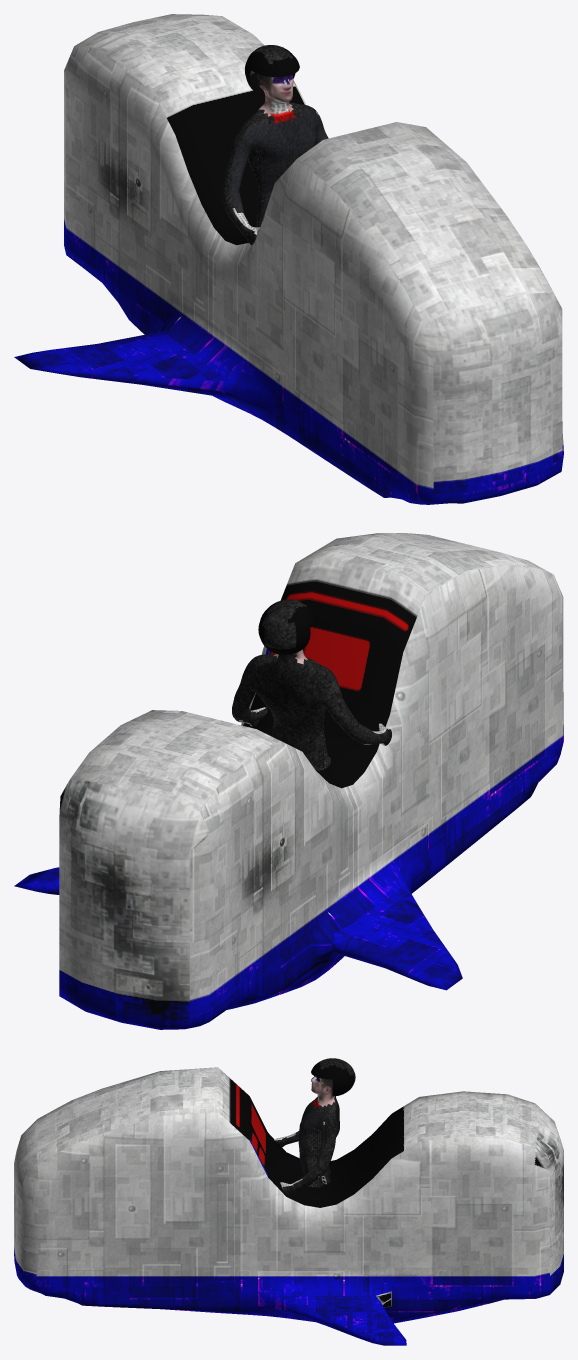
File: enemyShip01.fbx
3 views of the same model, one above another, from view 1: azimuth 30°, elevation 25°; view 2: azimuth 150°, elevation 25°; view 3: azimuth 270°, elevation 25° (orthographic). The views are drawn at different scales.
Visible parts, largest first — view 1: polySurface1; view 2: polySurface1; view 3: polySurface1.
Part boxes in pixels (bbox=[...]): polySurface1: bbox=[14, 14, 563, 504]; polySurface1: bbox=[14, 533, 563, 1029]; polySurface1: bbox=[14, 1058, 563, 1345].
Size of the model in its own units: 13.56 by 10.45 by 21.3.
1 material, 1 textured.
